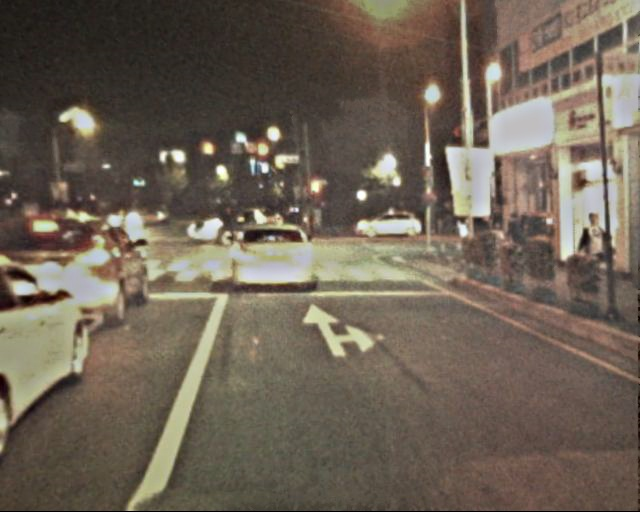person: (577, 214, 611, 298), (505, 213, 525, 261), (303, 203, 339, 229), (455, 214, 475, 260)
